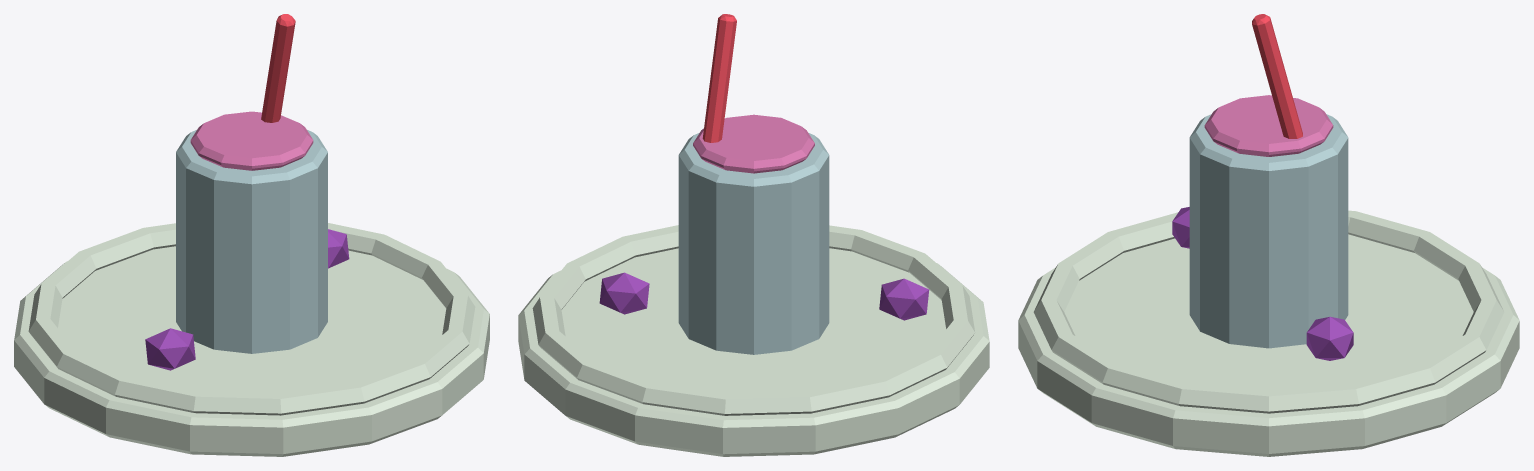
File: frozen_berry_smoothie.glb
3 views of the same model, side by side, from view 1: azimuth 30°, elevation 25°; view 2: azimuth 150°, elevation 25°; view 3: azimuth 270°, elevation 25° (orthographic). The views are drawn at different scales.
Parts seen in each view (by area): view 1: FTF_Dish_FrozenBerrySmoothie_StaticMesh; view 2: FTF_Dish_FrozenBerrySmoothie_StaticMesh; view 3: FTF_Dish_FrozenBerrySmoothie_StaticMesh.
Boxes of the visible parts, <box> form: FTF_Dish_FrozenBerrySmoothie_StaticMesh: <box>14,14,489,456</box>; FTF_Dish_FrozenBerrySmoothie_StaticMesh: <box>518,14,989,456</box>; FTF_Dish_FrozenBerrySmoothie_StaticMesh: <box>1018,14,1519,456</box>.
Bounding box in the file's own units: 0.82 × 0.6383 × 0.82.
